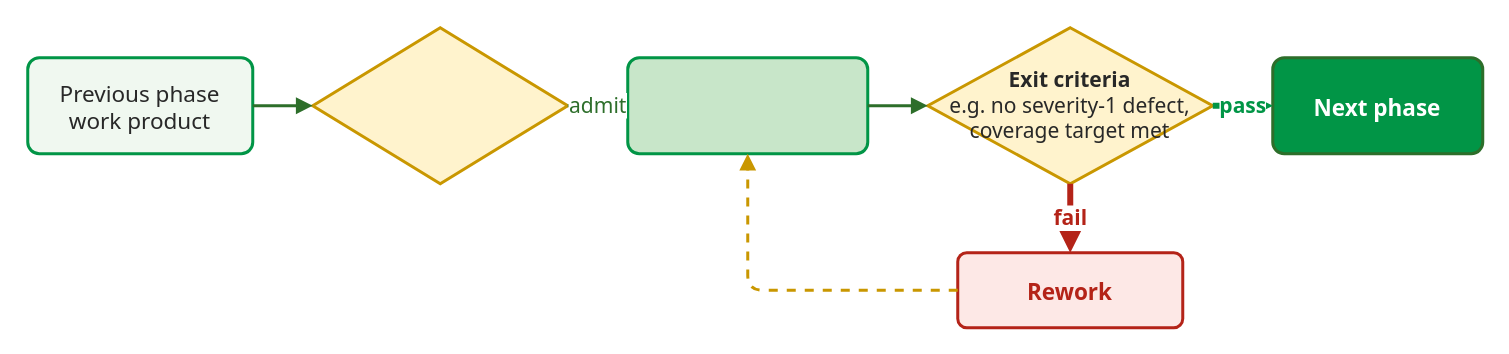
Image size: 1509x354. Some labels were removed from this diagram. The box of each missing label's shape, as (x1, y1, x2, y2) in pixels:
Activity (e.g. system test): (626, 56, 868, 154)
Entry criteria e.g. spec approved, environment ready: (310, 26, 568, 184)
